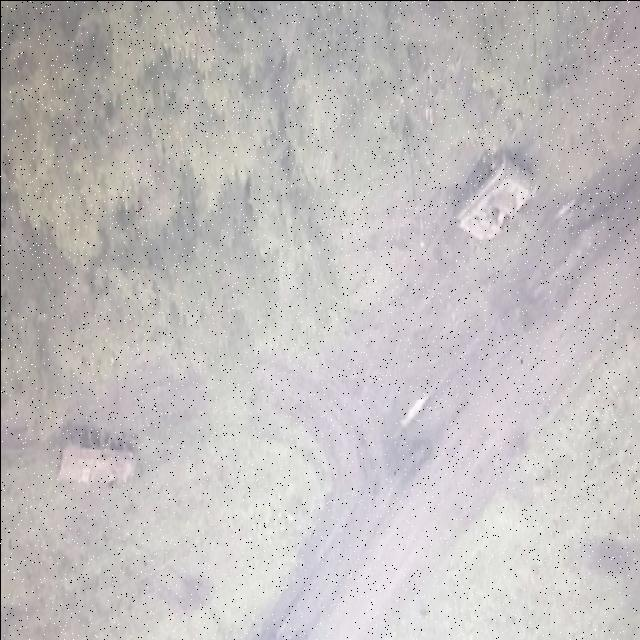APC-IFV: (448, 147, 536, 253), (54, 427, 142, 498)
